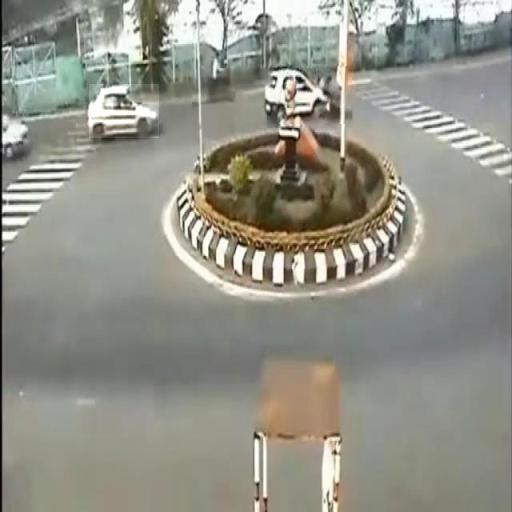小汽车: (89, 84, 159, 138)
小汽车撞自行车: (268, 66, 348, 124)
